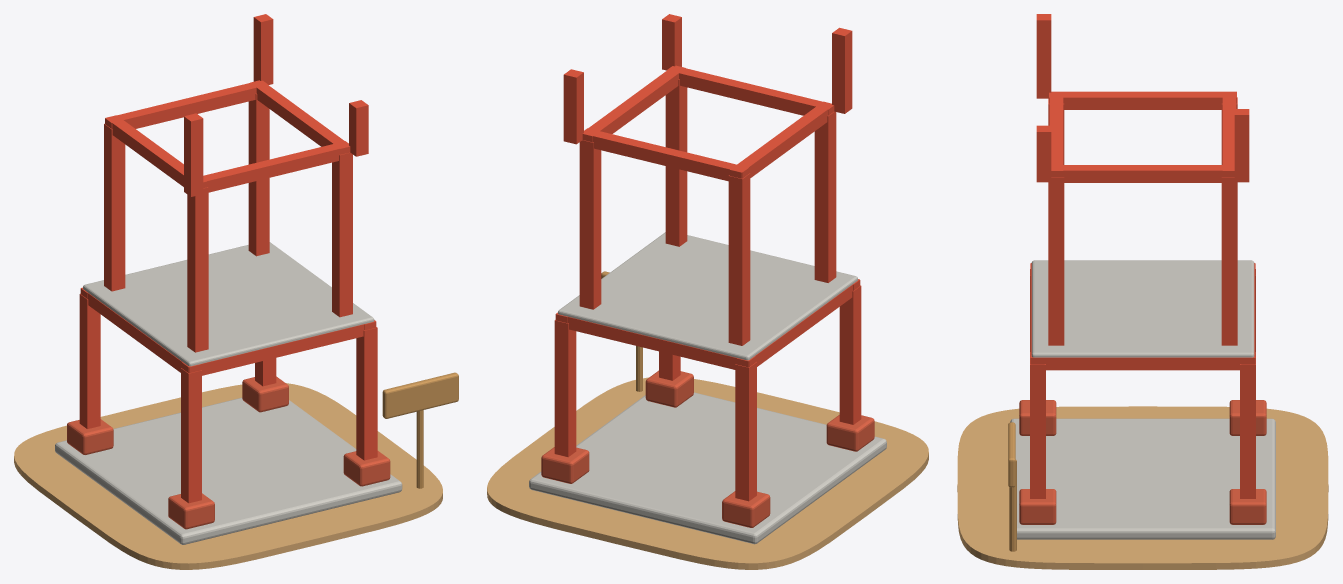
The model's file is clock-tower-stage-1.f89d80bd.glb.
3 views of the same model, side by side, from view 1: azimuth 30°, elevation 25°; view 2: azimuth 150°, elevation 25°; view 3: azimuth 270°, elevation 25° (orthographic). The views are drawn at different scales.
Visible parts, largest first — view 1: ClockTower_Stage1__T_concrete, ClockTower_Stage1__T_beam, ClockTower_Stage1__T_dirt, ClockTower_Stage1__T_brick, ClockTower_Stage1__T_wood; view 2: ClockTower_Stage1__T_concrete, ClockTower_Stage1__T_beam, ClockTower_Stage1__T_dirt, ClockTower_Stage1__T_brick; view 3: ClockTower_Stage1__T_concrete, ClockTower_Stage1__T_dirt, ClockTower_Stage1__T_beam, ClockTower_Stage1__T_brick, ClockTower_Stage1__T_wood.
Boxes of the visible parts, x1,y1,x2,y2 form: ClockTower_Stage1__T_concrete: (55, 242, 402, 544); ClockTower_Stage1__T_beam: (79, 14, 377, 503); ClockTower_Stage1__T_dirt: (14, 383, 442, 569); ClockTower_Stage1__T_brick: (67, 376, 390, 529); ClockTower_Stage1__T_wood: (382, 372, 458, 488); ClockTower_Stage1__T_concrete: (529, 232, 886, 544); ClockTower_Stage1__T_beam: (554, 14, 861, 501); ClockTower_Stage1__T_dirt: (487, 377, 928, 569); ClockTower_Stage1__T_brick: (541, 370, 874, 527); ClockTower_Stage1__T_concrete: (1010, 260, 1275, 539); ClockTower_Stage1__T_dirt: (957, 406, 1328, 569); ClockTower_Stage1__T_beam: (1030, 14, 1255, 498); ClockTower_Stage1__T_brick: (1019, 400, 1266, 524); ClockTower_Stage1__T_wood: (1008, 422, 1016, 551).
Bounding box in the file's own units: 4.98 × 6.18 × 4.8.
